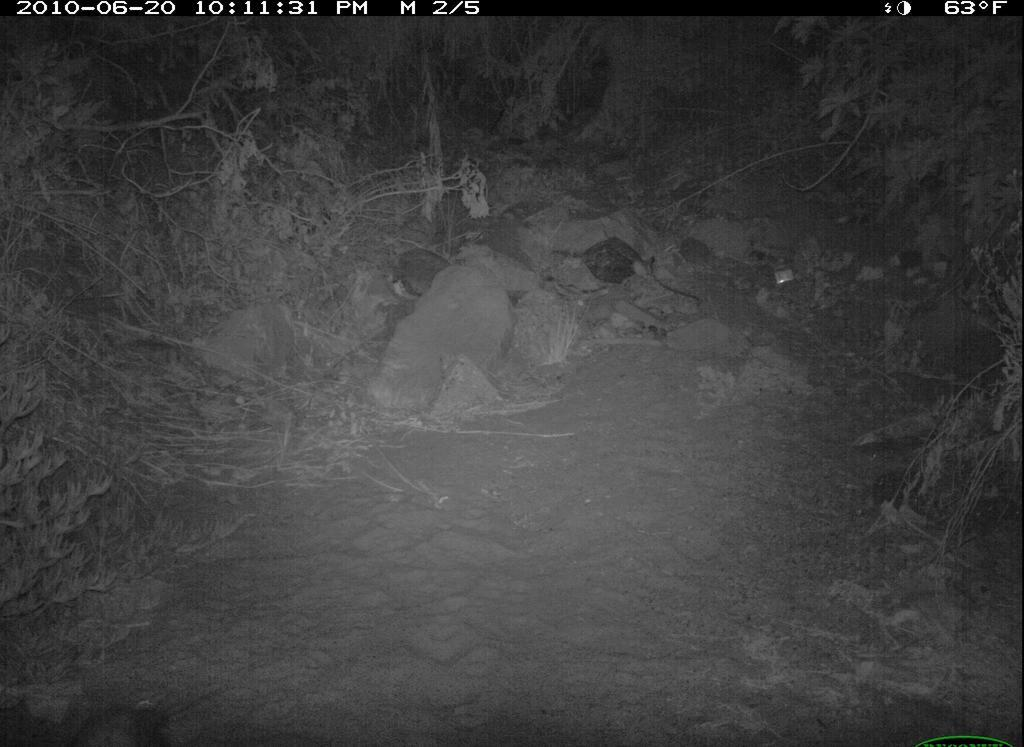opossum: (65, 689, 222, 747)
